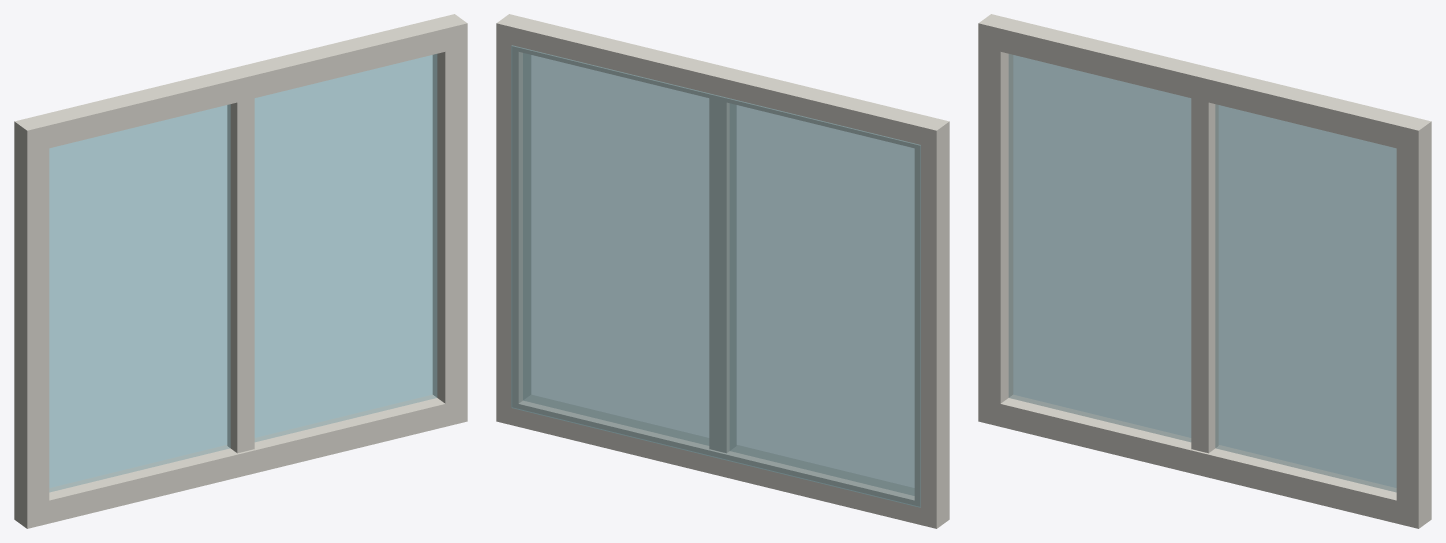
File: window.glb
The picture shows the model from 3 angles, left to right: view 1: azimuth 30°, elevation 25°; view 2: azimuth 150°, elevation 25°; view 3: azimuth 330°, elevation 25°; orthographic projection.
Visible parts, largest first — view 1: glass, top, bottom, right, left, center; view 2: glass, top, bottom, left, right, center; view 3: glass, top, bottom, right, left, center.
Part boxes in pixels (bbox=[...]): glass: bbox=[49, 54, 437, 492]; top: bbox=[14, 14, 467, 153]; bottom: bbox=[14, 394, 467, 528]; right: bbox=[432, 25, 467, 424]; left: bbox=[14, 127, 49, 527]; center: bbox=[227, 98, 254, 453]; glass: bbox=[511, 45, 920, 507]; top: bbox=[496, 14, 949, 153]; bottom: bbox=[496, 395, 949, 528]; left: bbox=[914, 128, 949, 527]; right: bbox=[496, 25, 530, 424]; center: bbox=[709, 98, 736, 453]; glass: bbox=[1008, 54, 1396, 492]; top: bbox=[978, 14, 1431, 153]; bottom: bbox=[978, 394, 1431, 528]; right: bbox=[1396, 135, 1431, 527]; left: bbox=[978, 25, 1013, 424]; center: bbox=[1191, 98, 1218, 453].
Bounding box in the file's own units: 1.4 × 1.21 × 0.075.
